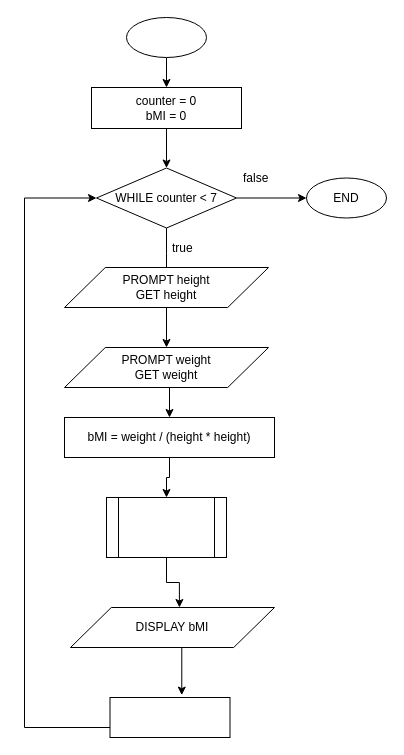
Image size: 404x755. Some labels were removed from this diagram. The shapes that lost their labels are listed below. From the top down, each one's box as (x1, y1, x2, y2) in pixels, then its label:
(126, 16, 206, 58): START
(106, 496, 226, 558): round bMI
(109, 696, 230, 738): counter =counter + 1
